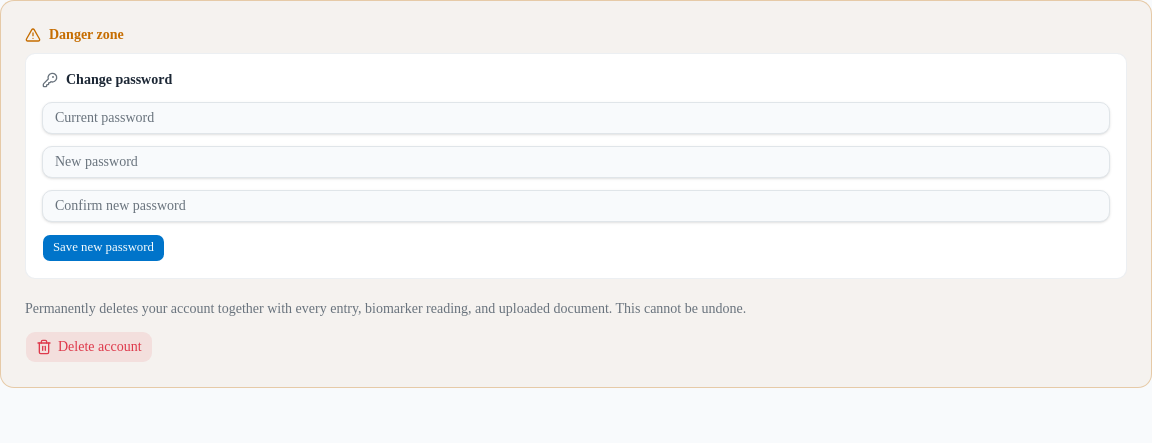
DangerZoneCard (registered) › rejects short passwords client-side
Type "oldpass123" into the password field with test id "current-password".
click(576, 118); type("oldpass123")  # box top-left (42, 102), bottom-right (1110, 134)
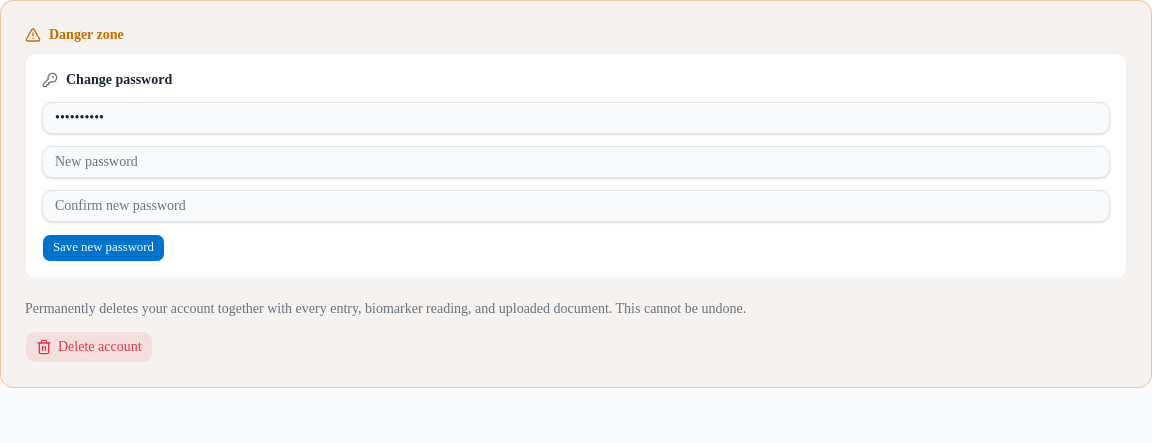
Type "short" into the password field with test id "new-password".
click(576, 162); type("short")  # box top-left (42, 146), bottom-right (1110, 178)
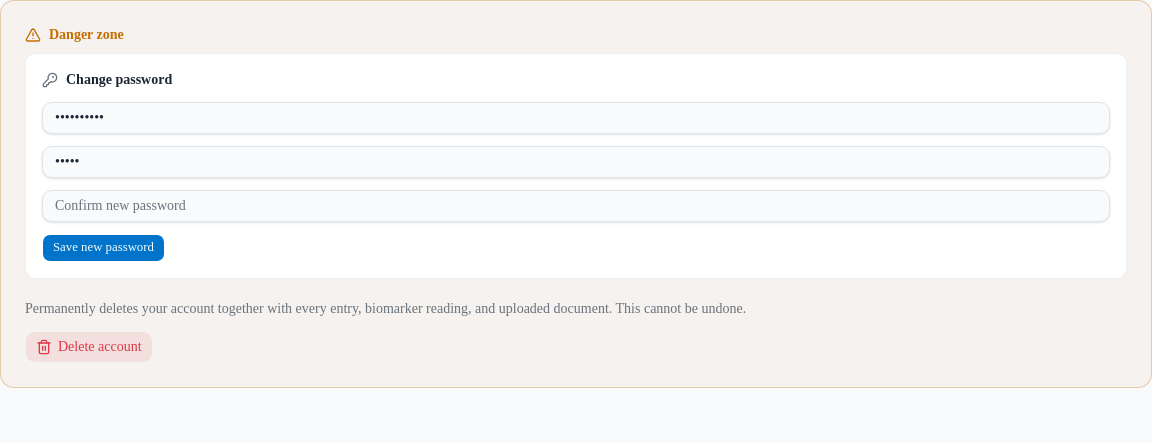
Type "short" into the password field with test id "confirm-password".
click(576, 206); type("short")  # box top-left (42, 190), bottom-right (1110, 222)
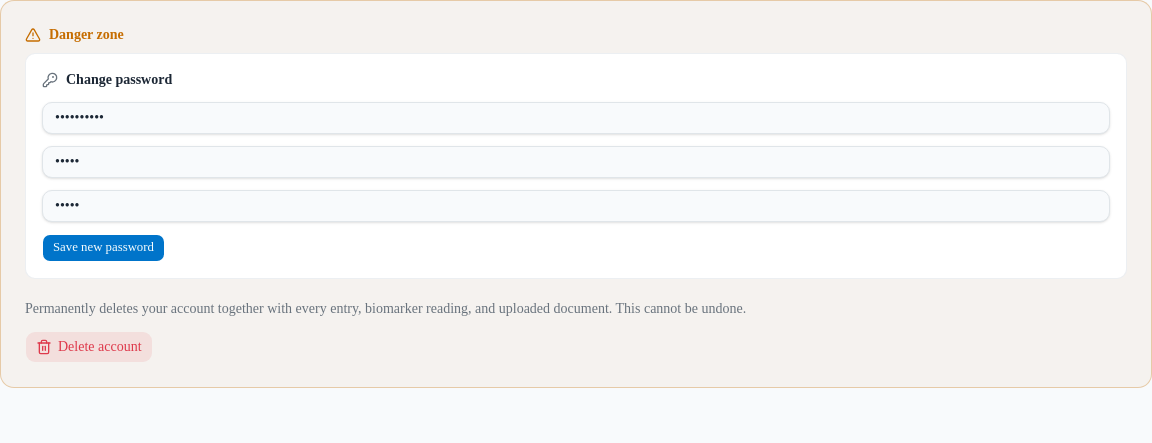
Click the button with test id "save-password".
click(103, 248)  # box top-left (42, 234), bottom-right (165, 262)
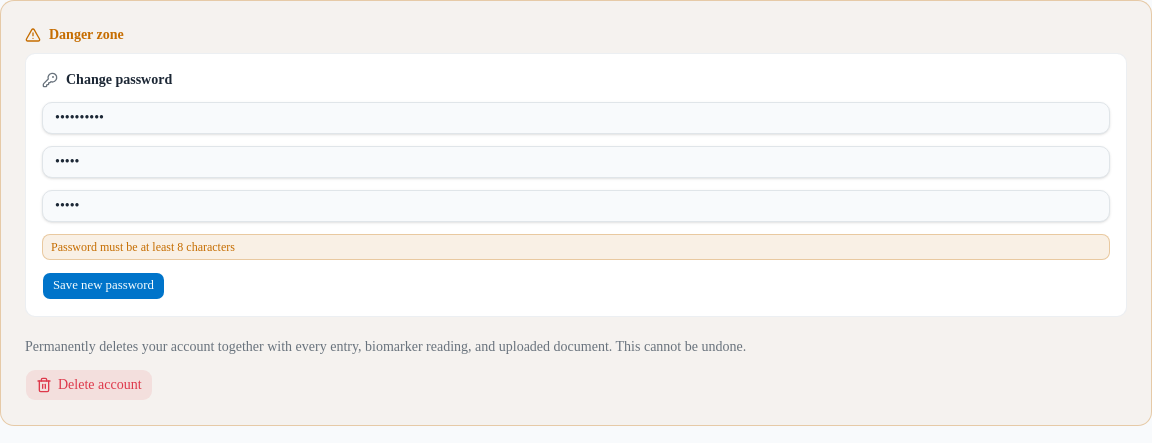
Expected: the text "Password must be at least 8 characters" is shown, top-left (42, 234), bottom-right (1110, 260)
